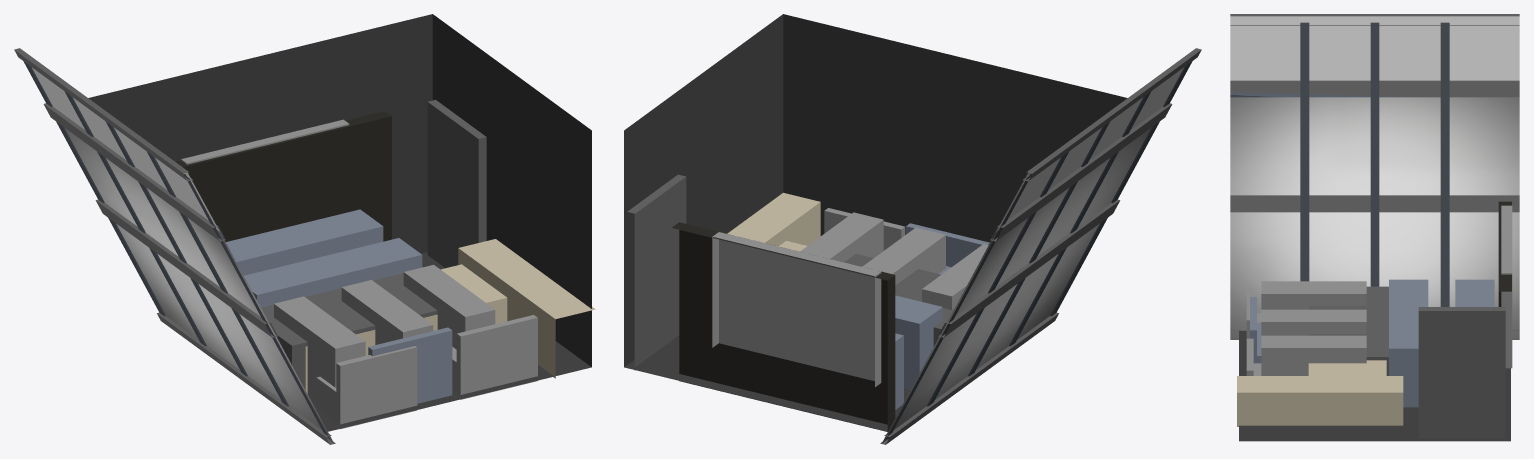
Rendered from Wall_26_Fake_Interior_Askew.FBX.
3 renders of one model, left to right at view 1: azimuth 30°, elevation 25°; view 2: azimuth 150°, elevation 25°; view 3: azimuth 270°, elevation 25°, orthographic. The views are drawn at different scales.
Visible parts, largest first — view 1: Wall_26_Fake Interior_Askew_LOD0, Wall_26_Fake Interior_C, Wall_26_Fake Interior_B, Wall_26_Fake Interior_A; view 2: Wall_26_Fake Interior_Askew_LOD0, Wall_26_Fake Interior_C, Wall_26_Fake Interior_A, Wall_26_Fake Interior_B; view 3: Wall_26_Fake Interior_Askew_LOD0, Wall_26_Fake Interior_B, Wall_26_Fake Interior_C, Wall_26_Fake Interior_A.
Boxes of the visible parts, x1=… form: Wall_26_Fake Interior_Askew_LOD0: x1=14, y1=14, x2=591, y2=444; Wall_26_Fake Interior_C: x1=176, y1=102, x2=595, y2=403; Wall_26_Fake Interior_B: x1=226, y1=99, x2=495, y2=402; Wall_26_Fake Interior_A: x1=181, y1=119, x2=537, y2=429; Wall_26_Fake Interior_Askew_LOD0: x1=624, y1=14, x2=1201, y2=444; Wall_26_Fake Interior_C: x1=635, y1=177, x2=989, y2=439; Wall_26_Fake Interior_A: x1=662, y1=176, x2=905, y2=387; Wall_26_Fake Interior_B: x1=627, y1=174, x2=988, y2=409; Wall_26_Fake Interior_Askew_LOD0: x1=1230, y1=14, x2=1519, y2=441; Wall_26_Fake Interior_B: x1=1261, y1=279, x2=1505, y2=438; Wall_26_Fake Interior_C: x1=1237, y1=201, x2=1511, y2=426; Wall_26_Fake Interior_A: x1=1246, y1=205, x2=1512, y2=375.
Size of what is drawn, in the model's own units: 255 by 180 by 180.
